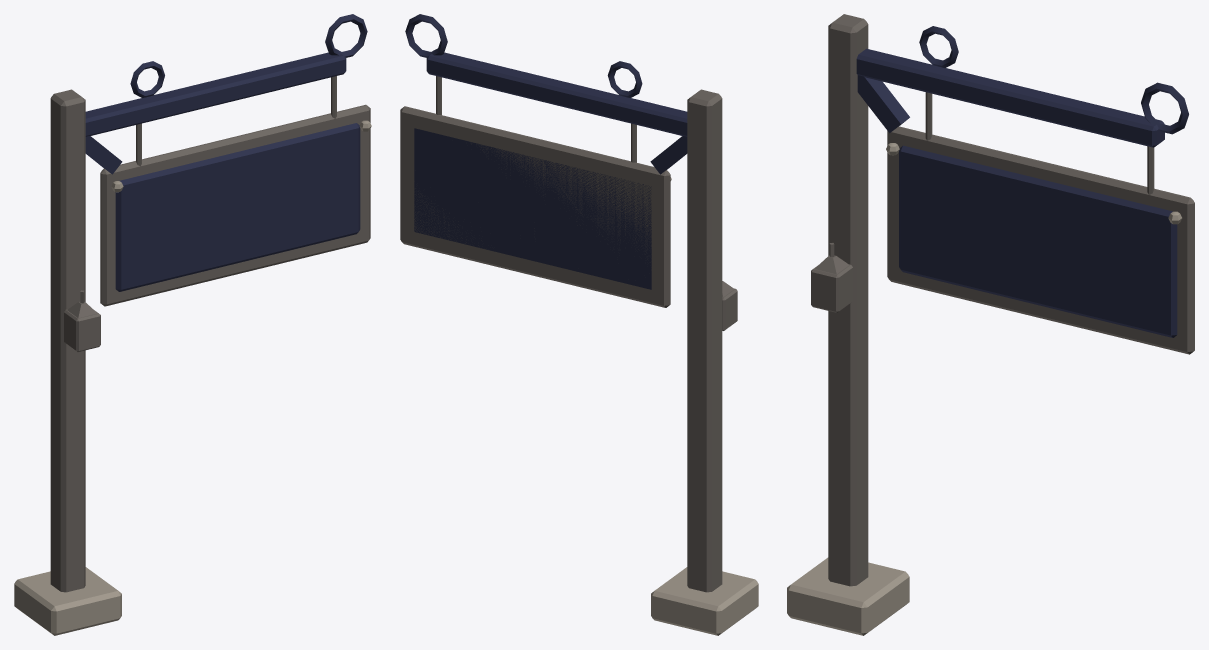
Rendered from PR_Sign_3.fbx.
3 renders of one model, left to right at view 1: azimuth 30°, elevation 25°; view 2: azimuth 150°, elevation 25°; view 3: azimuth 330°, elevation 25°, orthographic. The views are drawn at different scales.
Visible parts, largest first — view 1: PR_Sign_3; view 2: PR_Sign_3; view 3: PR_Sign_3.
Boxes of the visible parts, box(x1,y1,x2,y2) form: PR_Sign_3: box(14, 14, 371, 635); PR_Sign_3: box(400, 14, 758, 635); PR_Sign_3: box(787, 14, 1194, 635).
Size of the model in its own units: 1.91 by 2.87 by 0.41.
1 material, 1 textured.
